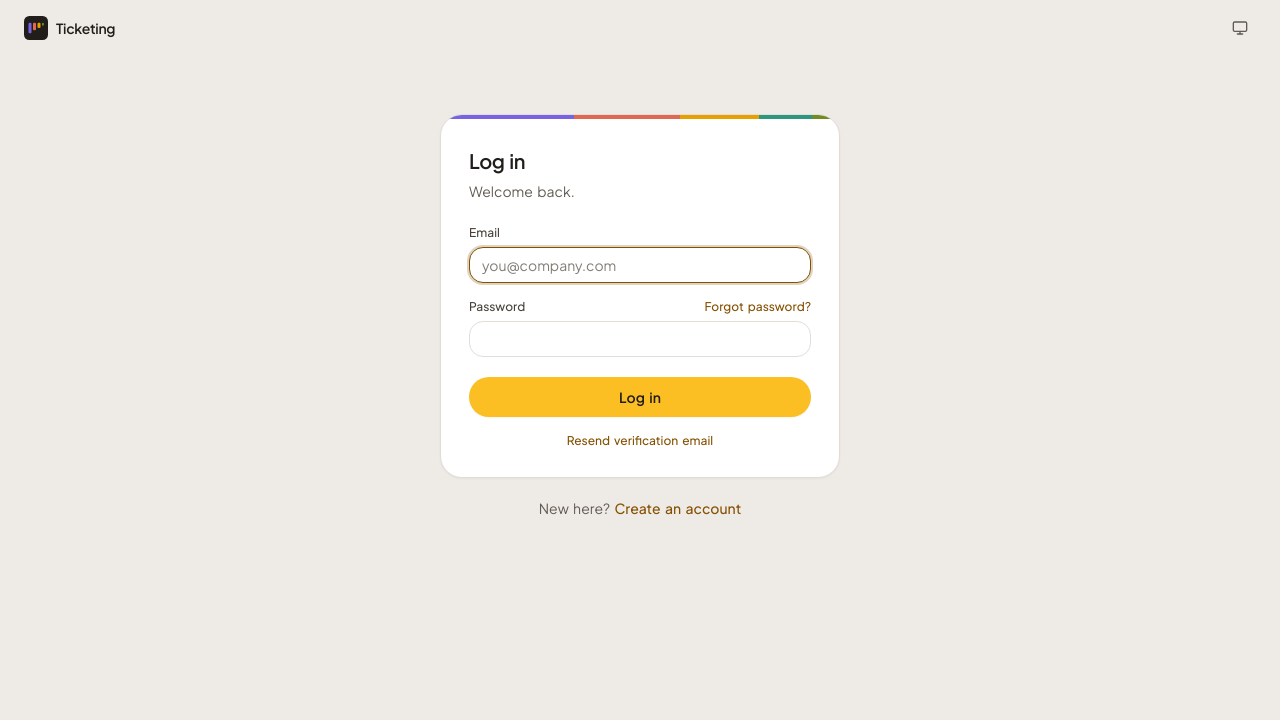
it: LoginPage › sends a new verification link from the unverified warning without submitting the login form
Type "new@example.com" into the field labelled "Email" at (640, 265), box [469, 247, 811, 283]
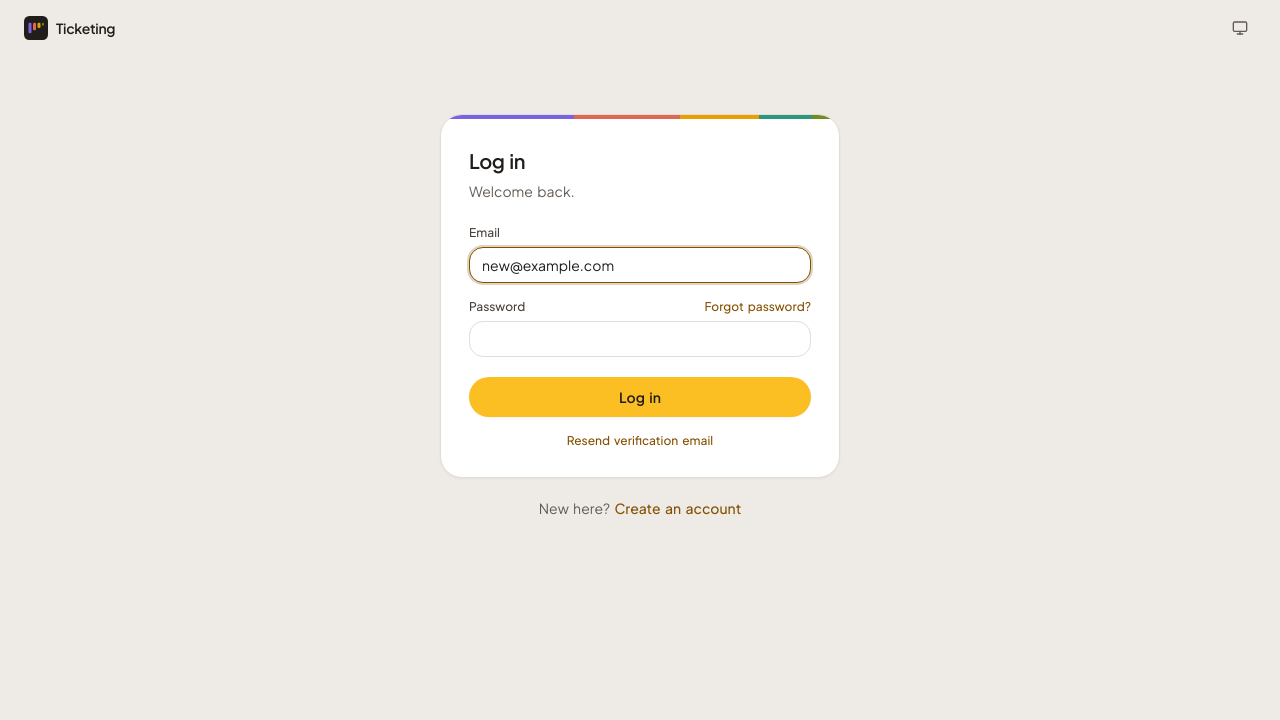
Type "password-1" into the password field labelled "Password" at (640, 339), box [469, 321, 811, 357]
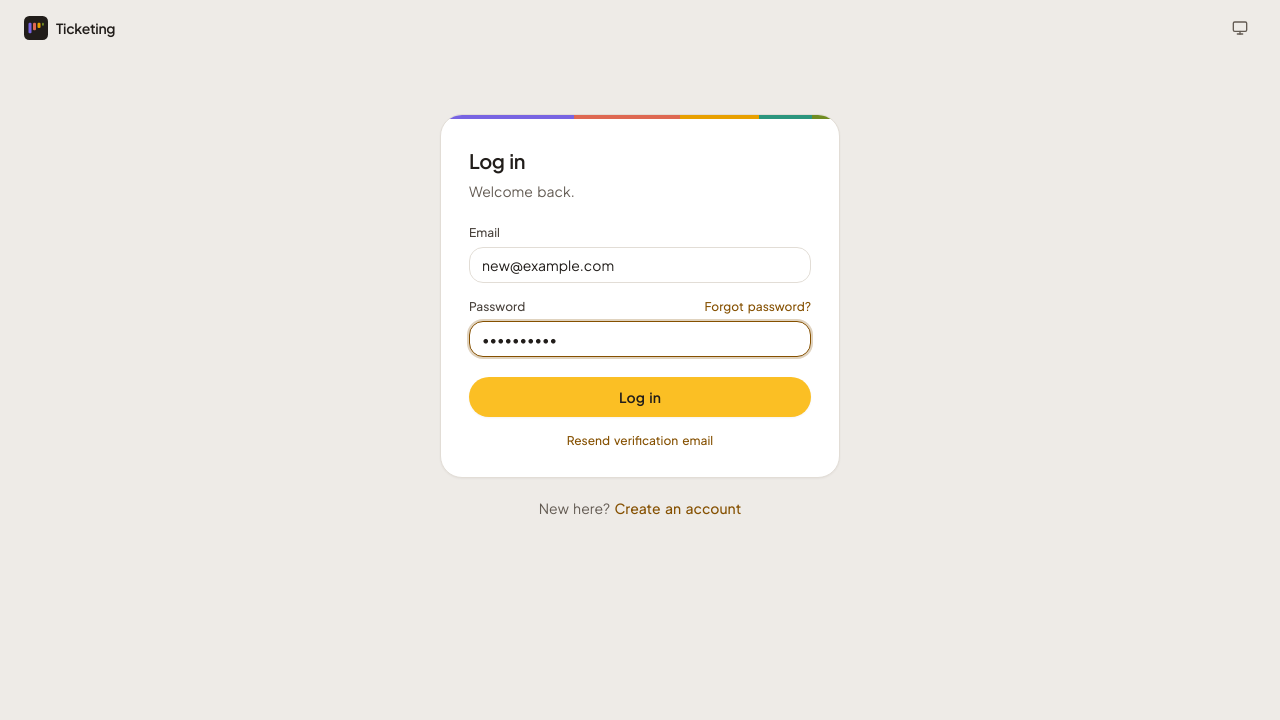
Click the button "Log in" at (640, 397), box [469, 377, 811, 417]
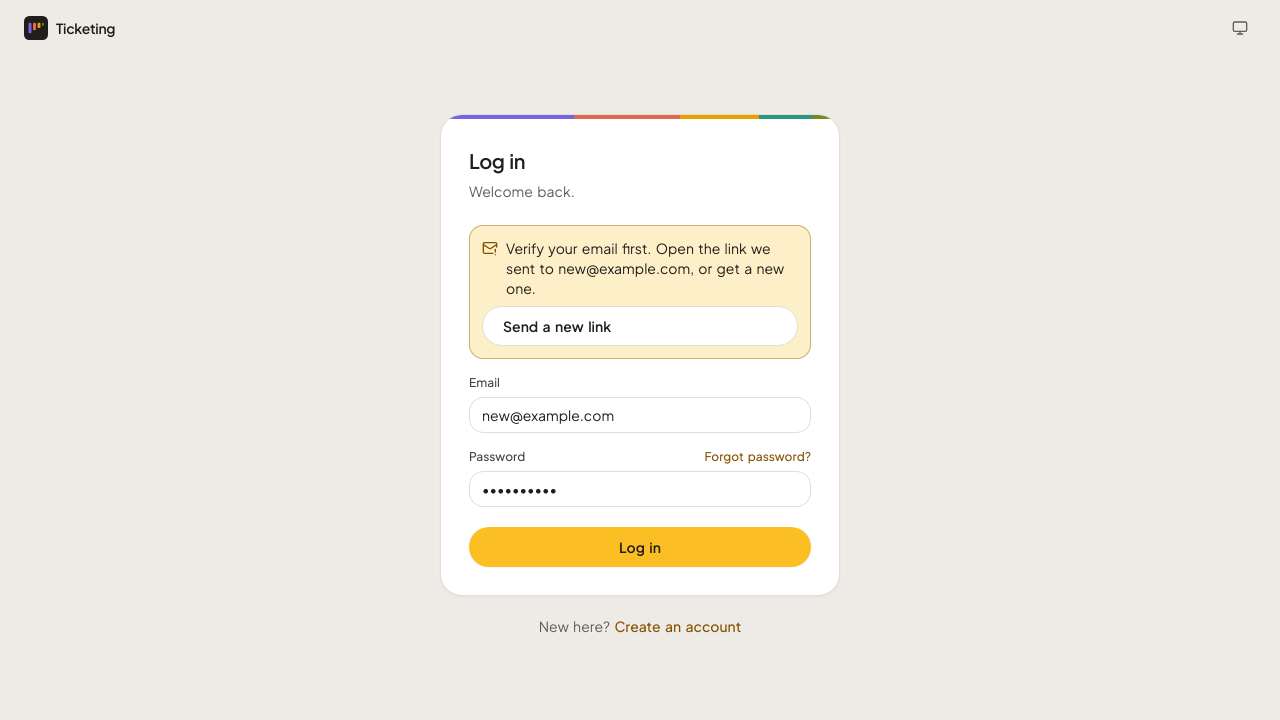
Check: the text "Verify your email first" is shown, box [506, 239, 771, 277]
Click the button "Send a new link" at (557, 326), box [482, 306, 798, 346]
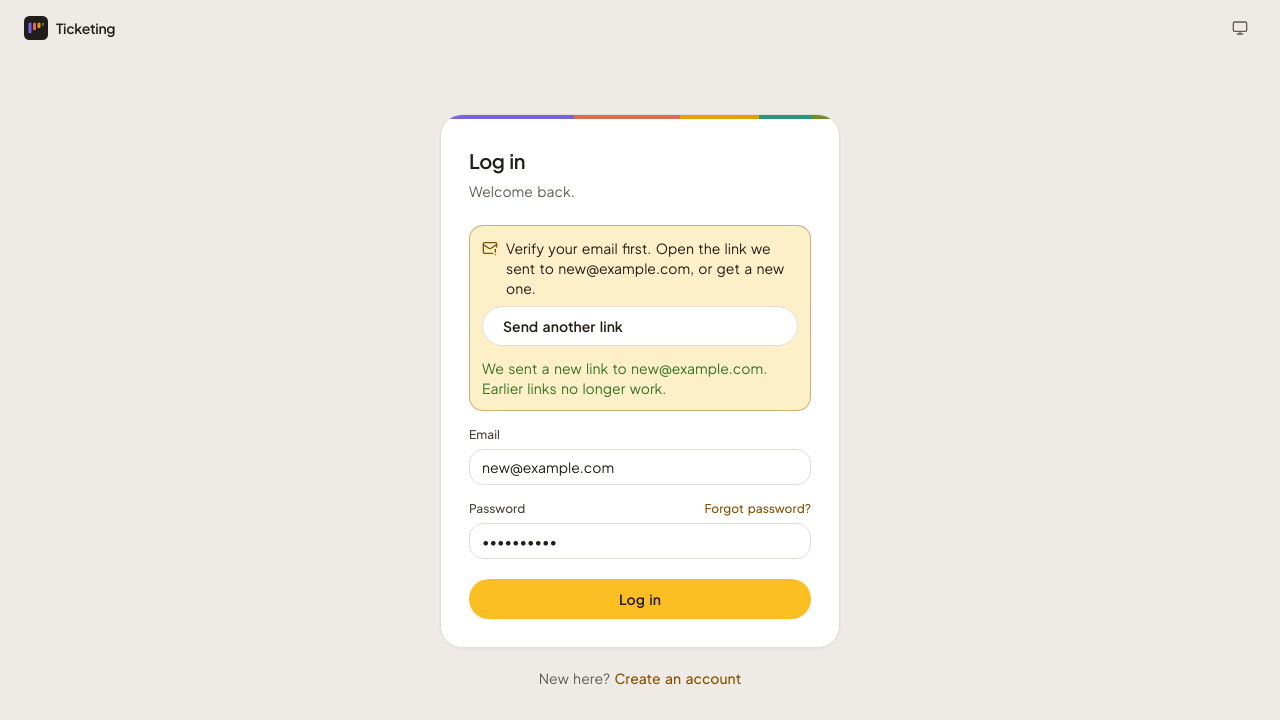
Check: the text "We sent a new link to new@example.com. Earlier links no longer work." is shown, box [482, 358, 798, 398]
